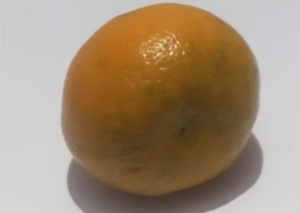BAD: (55, 2, 262, 198)
